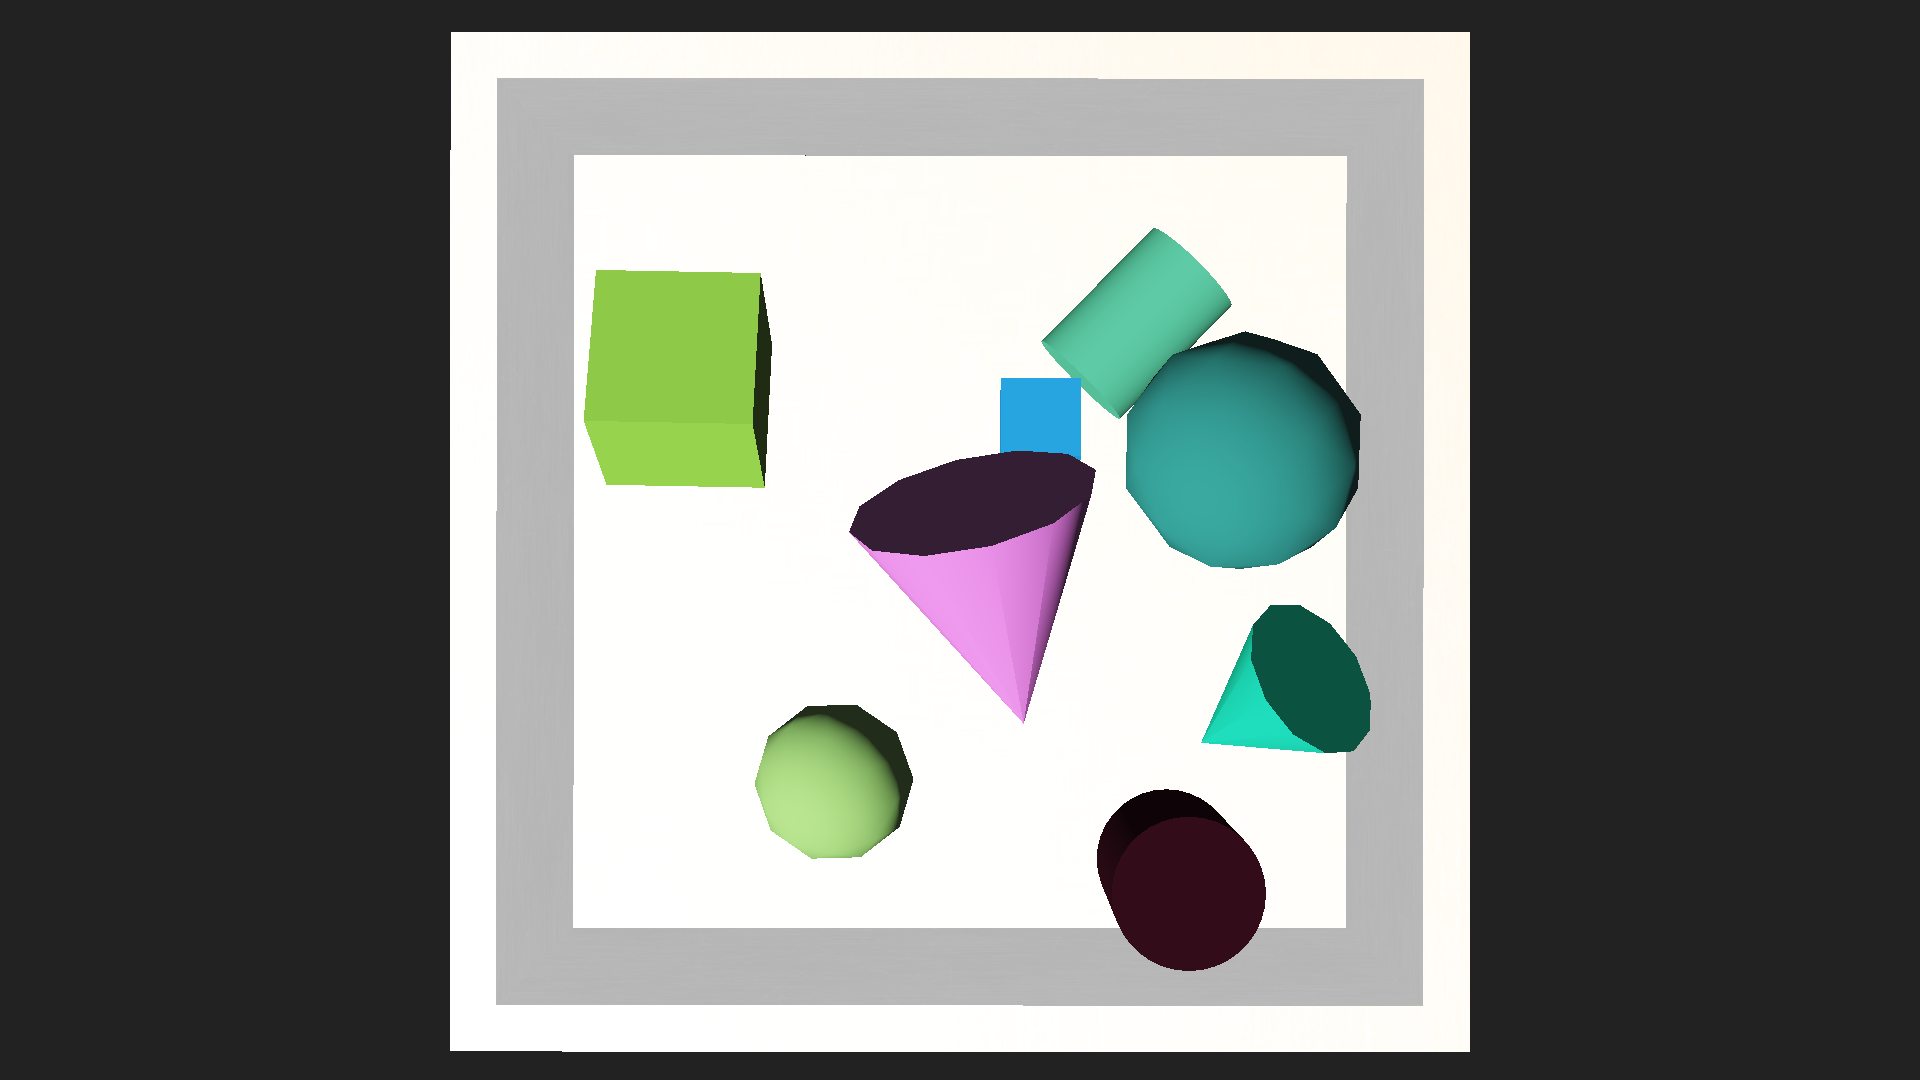3: (582, 262, 771, 488), (998, 377, 1081, 473)
cone: (1039, 220, 1237, 422), (1095, 789, 1265, 971)
cylinder: (824, 417, 1178, 822), (1131, 589, 1393, 845)
sphere: (1121, 328, 1364, 574), (753, 700, 913, 860)
